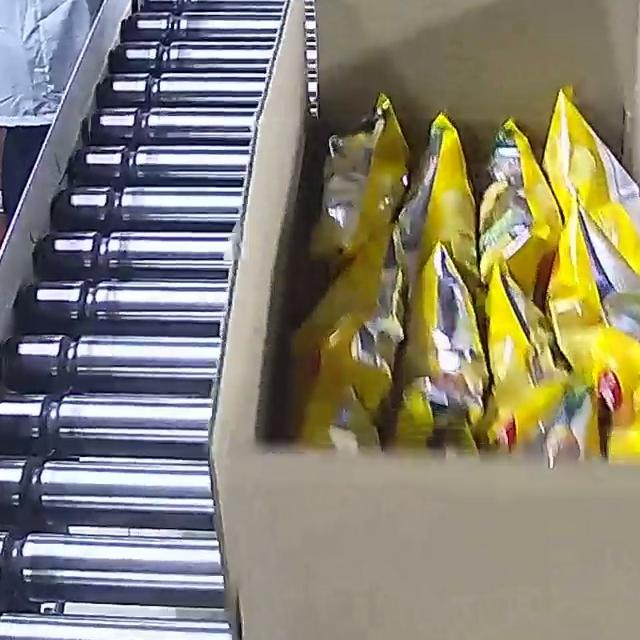salted: (285, 83, 640, 467)
